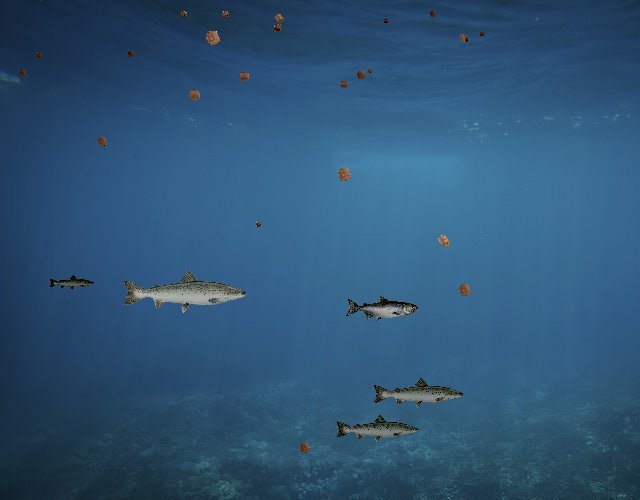Fish: (120, 268, 249, 314), (372, 377, 466, 410), (334, 413, 420, 444), (345, 295, 418, 321), (48, 274, 95, 291)
Pellet: (198, 22, 228, 52), (430, 228, 457, 255), (452, 277, 478, 303), (183, 84, 206, 107), (294, 437, 316, 459), (176, 7, 191, 22), (124, 47, 138, 61), (252, 219, 264, 231)
